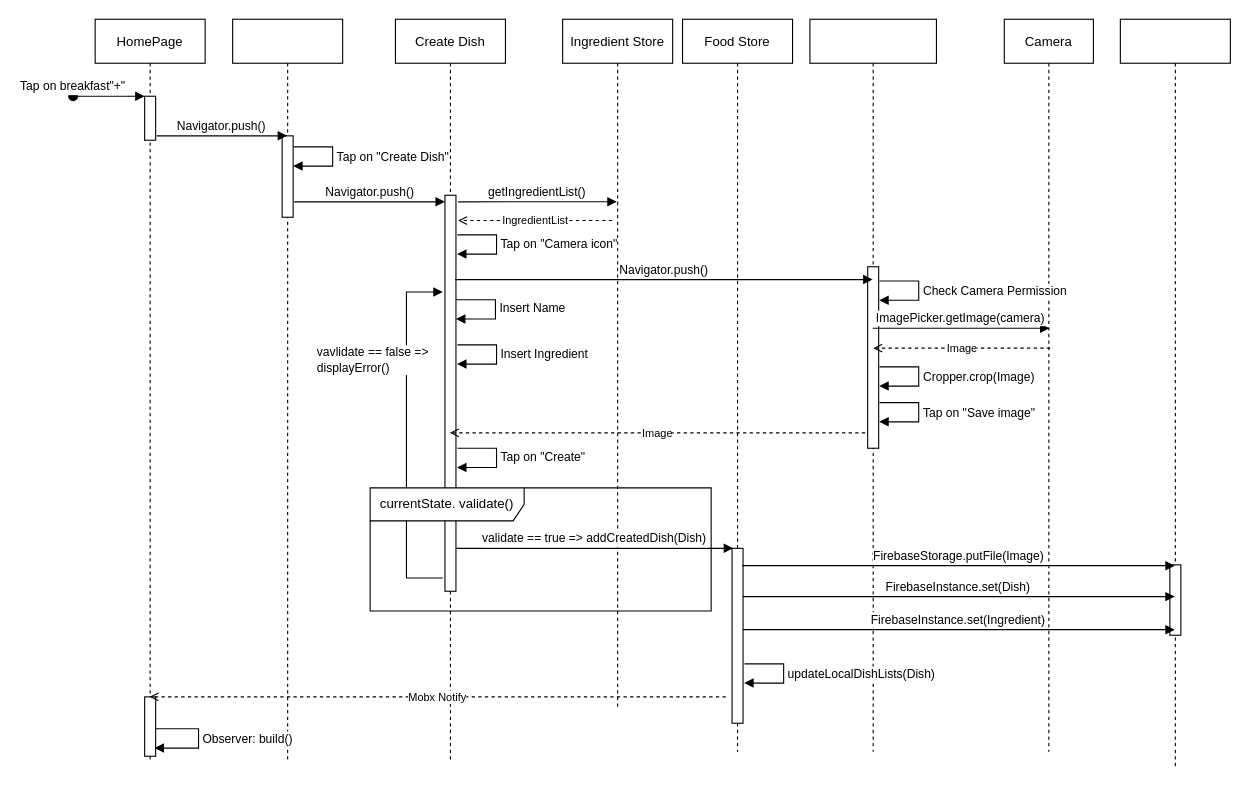
Image size: 1250x788. Some labels were removed from this diagram. Here are the shapes that lost their labels. From the top down, the box of each, then its label:
(232, 18, 343, 763): Add Dish Page
(809, 18, 936, 752): Foto Manager
(1119, 18, 1230, 768): Firebase
